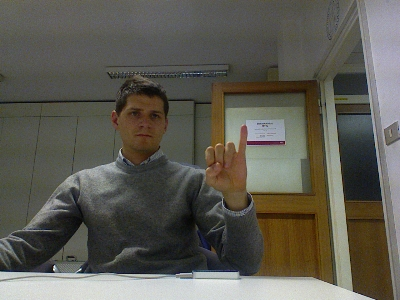小指: (203, 123, 248, 196)
